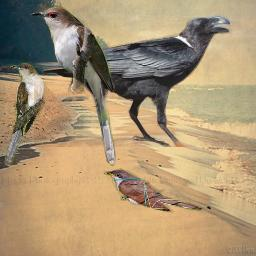Crow: (34, 13, 232, 147)
Cuckoo: (29, 5, 116, 166), (103, 167, 205, 216), (4, 63, 45, 166)
